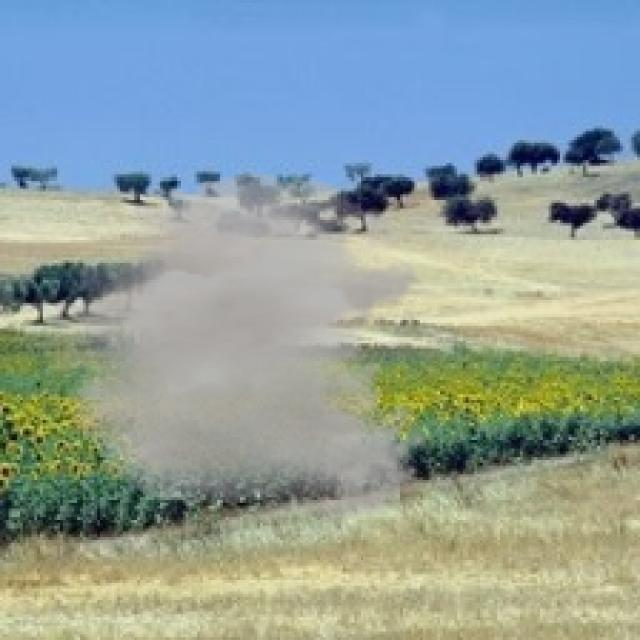Smoke: (14, 175, 432, 520)
